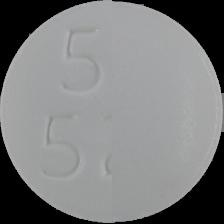0054-0222: (0, 0, 224, 224)
